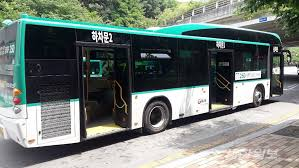out: (198, 22, 286, 119)
